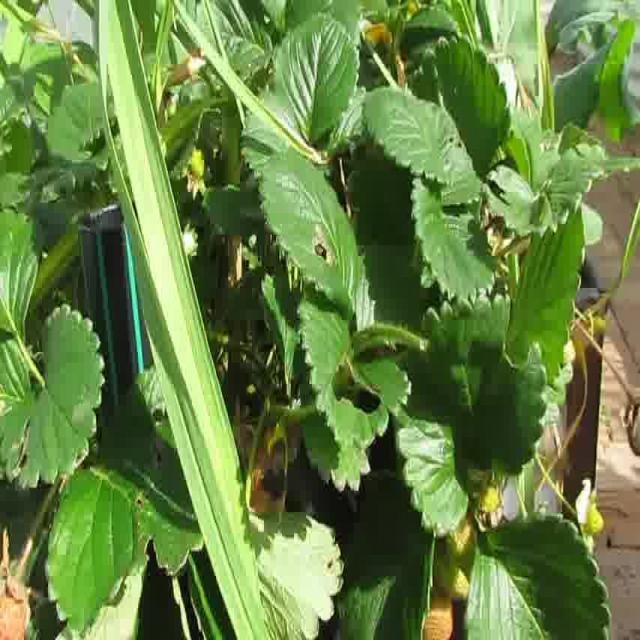Moho gris: (0, 536, 33, 640)
